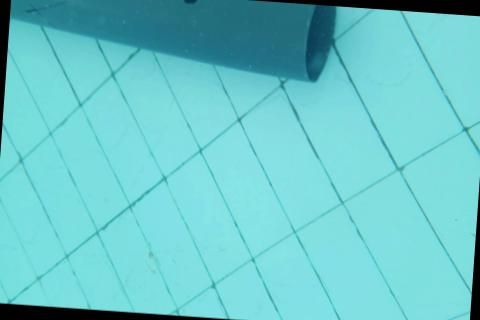kebocoran: (182, 0, 199, 3)
keretakan: (23, 0, 67, 26)
